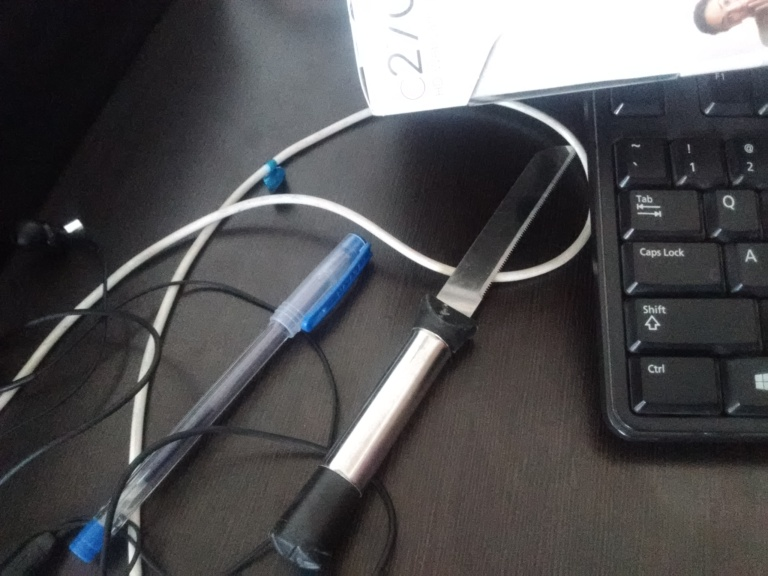knife: (269, 144, 579, 570)
